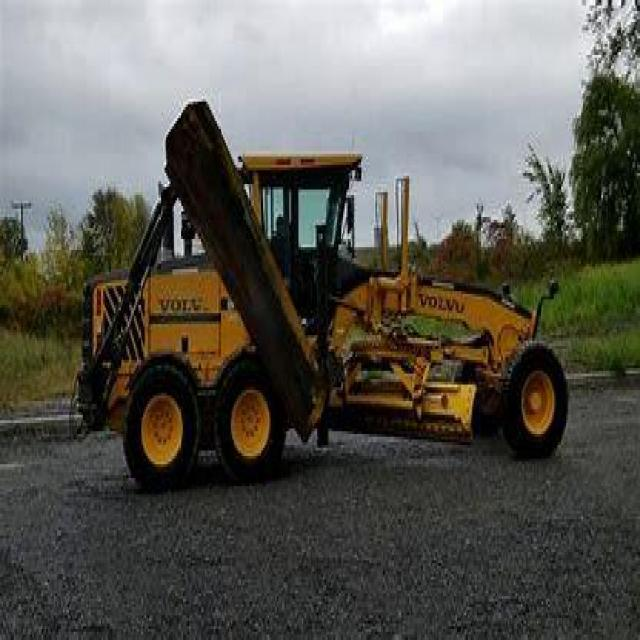Grader: (82, 99, 590, 492)
